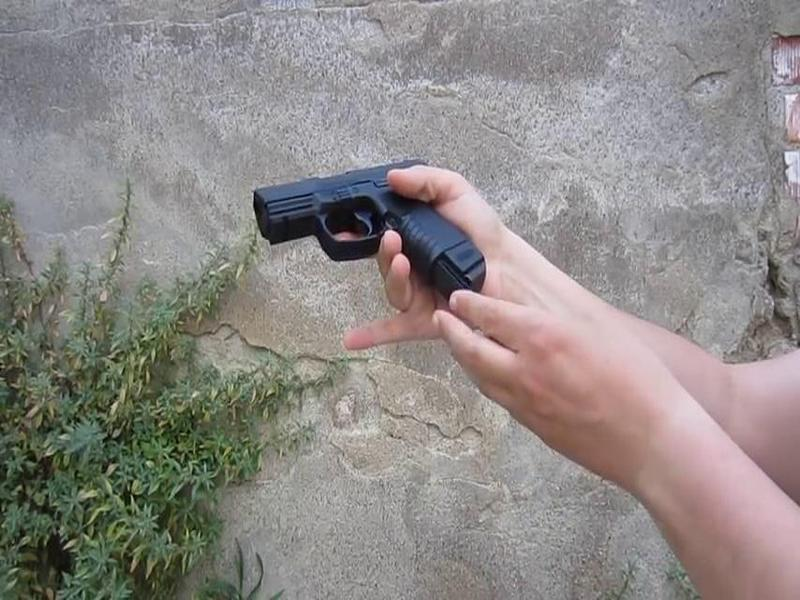Pistola: (225, 130, 491, 338)
